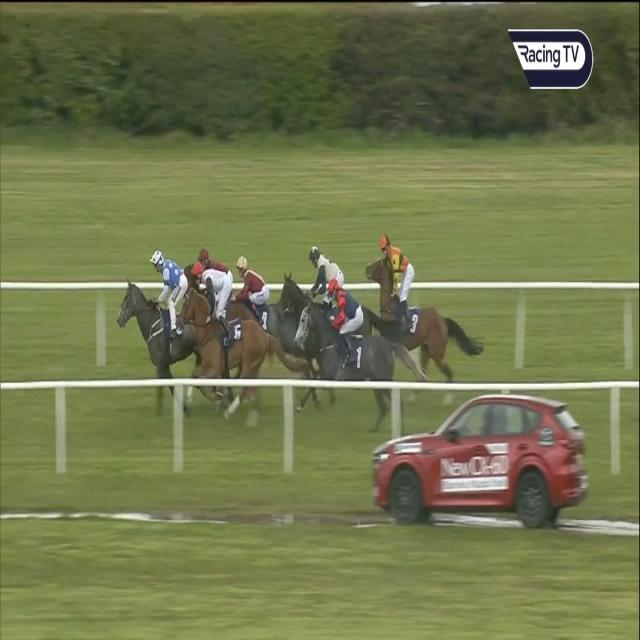horses-racing: (295, 278, 427, 435), (364, 234, 486, 383), (176, 263, 266, 429), (115, 249, 198, 412), (276, 247, 362, 314), (231, 256, 282, 330), (183, 248, 245, 288)
